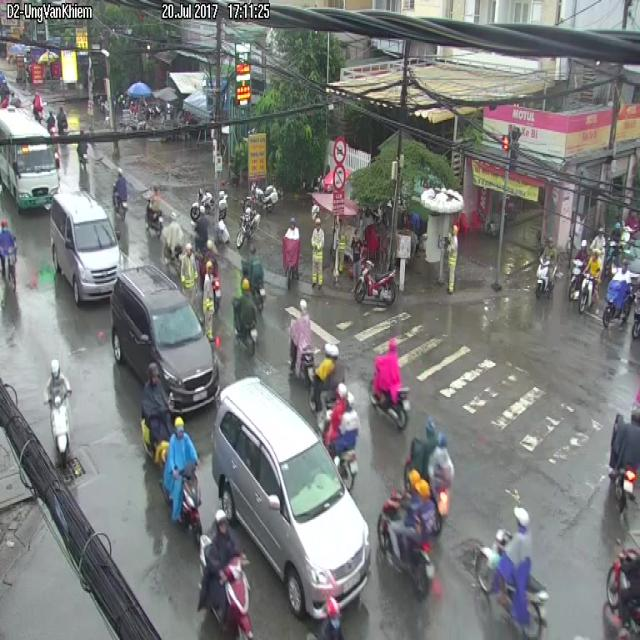car: (198, 510, 252, 639), (162, 418, 201, 541), (47, 359, 72, 468), (353, 259, 397, 304)
traffic-light: (212, 378, 370, 619), (111, 265, 218, 413), (50, 188, 119, 304)
